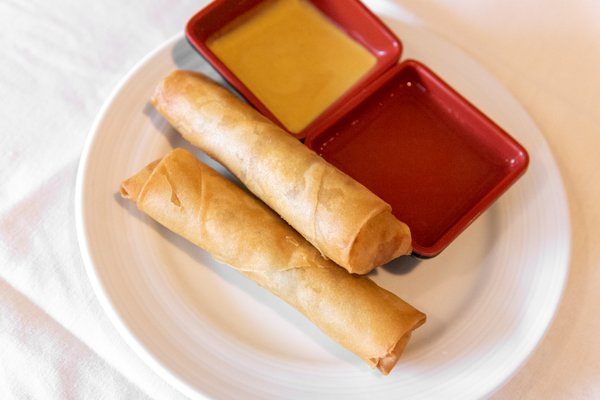curry: (1, 0, 573, 395)
